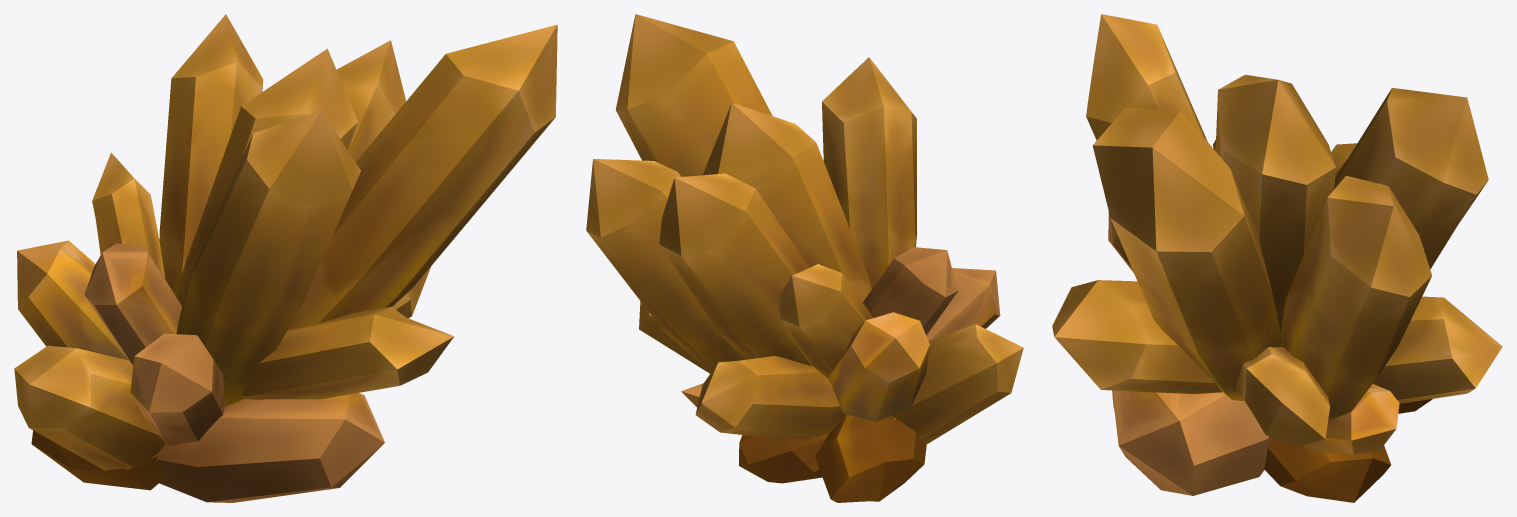
Rendered from Minerio.fbx.
3 renders of one model, left to right at view 1: azimuth 30°, elevation 25°; view 2: azimuth 150°, elevation 25°; view 3: azimuth 270°, elevation 25°, orthographic. The views are drawn at different scales.
Visible parts, largest first — view 1: Topazio; view 2: Topazio; view 3: Topazio.
Boxes of the visible parts, box(x1,y1,x2,y2) form: Topazio: box(14, 14, 557, 502); Topazio: box(586, 14, 1023, 502); Topazio: box(1052, 14, 1502, 502).
Bounding box in the file's own units: 109 × 91.69 × 77.14.
Materials: 1 (1 with a texture image).
